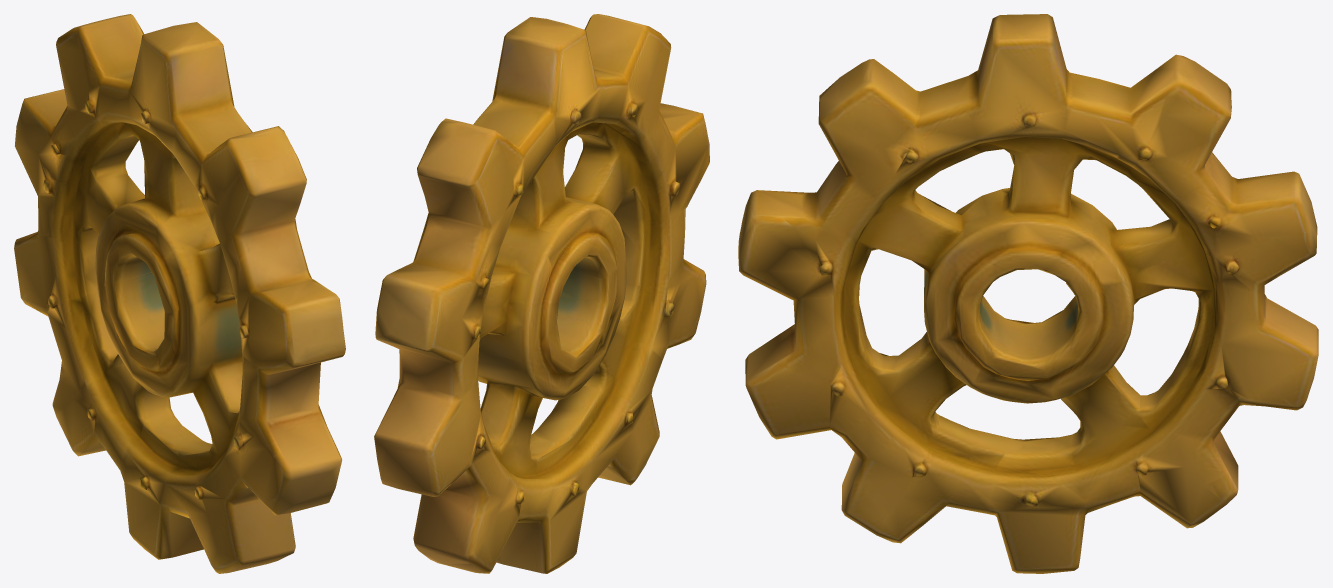
The model's file is pickup.glb.
The picture shows the model from 3 angles, left to right: view 1: azimuth 30°, elevation 25°; view 2: azimuth 150°, elevation 25°; view 3: azimuth 270°, elevation 25°; orthographic projection. The views are drawn at different scales.
Parts seen in each view (by area): view 1: tripo_node_3de1d10f-9c75-4b44-b90b-9f4a046b96d2; view 2: tripo_node_3de1d10f-9c75-4b44-b90b-9f4a046b96d2; view 3: tripo_node_3de1d10f-9c75-4b44-b90b-9f4a046b96d2.
Boxes of the visible parts, x1,y1,x2,y2 form: tripo_node_3de1d10f-9c75-4b44-b90b-9f4a046b96d2: (14, 14, 345, 573); tripo_node_3de1d10f-9c75-4b44-b90b-9f4a046b96d2: (374, 14, 709, 573); tripo_node_3de1d10f-9c75-4b44-b90b-9f4a046b96d2: (738, 14, 1318, 573).
Size of the model in its own units: 0.09 by 0.55 by 0.5406.
Materials: 1 (1 with a texture image).
